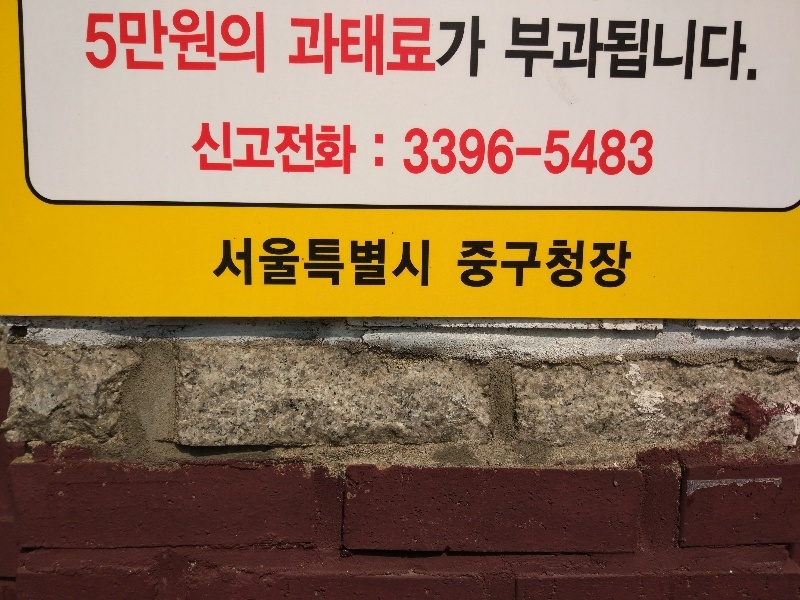text: (289, 12, 304, 79), (305, 12, 320, 79), (321, 12, 336, 79), (337, 12, 352, 79), (353, 12, 368, 79), (369, 12, 384, 79), (385, 12, 400, 79), (401, 12, 416, 79), (417, 12, 432, 79), (433, 12, 448, 79), (449, 12, 464, 79), (465, 12, 480, 79), (513, 17, 528, 84), (529, 17, 544, 84), (545, 17, 560, 84), (561, 17, 576, 84), (577, 17, 592, 84), (593, 17, 608, 84), (609, 17, 624, 84), (625, 17, 640, 84), (641, 17, 656, 84), (657, 17, 672, 84), (673, 17, 688, 84), (689, 17, 704, 84), (705, 17, 720, 84), (721, 17, 736, 84), (737, 17, 752, 84), (97, 11, 112, 76), (113, 11, 128, 76), (129, 11, 144, 76), (145, 11, 160, 76), (161, 11, 176, 76), (177, 11, 192, 76), (193, 11, 208, 76), (209, 11, 224, 76), (225, 11, 240, 76), (241, 11, 256, 76), (193, 122, 208, 179), (209, 122, 224, 179), (225, 122, 240, 179), (241, 122, 256, 179), (257, 122, 272, 179), (273, 122, 288, 179), (289, 122, 304, 179), (305, 122, 320, 179), (321, 122, 336, 179), (337, 122, 352, 179), (353, 122, 368, 179), (369, 122, 384, 179), (385, 122, 400, 179), (401, 122, 416, 179), (417, 122, 432, 179), (433, 122, 448, 179), (449, 122, 464, 179), (465, 122, 480, 179), (481, 122, 496, 179), (497, 122, 512, 179), (513, 122, 528, 179), (529, 122, 544, 179), (545, 122, 560, 179), (561, 122, 576, 179), (577, 122, 592, 179), (593, 122, 608, 179), (609, 122, 624, 179), (625, 122, 640, 179), (641, 122, 656, 179), (209, 239, 224, 288), (225, 239, 240, 288), (241, 239, 256, 288), (257, 239, 272, 288), (273, 239, 288, 288), (289, 239, 304, 288), (305, 239, 320, 288), (321, 239, 336, 288), (337, 239, 352, 288), (353, 239, 368, 288), (369, 239, 384, 288), (385, 239, 400, 288), (401, 239, 416, 288), (465, 241, 480, 290), (481, 241, 496, 290), (497, 241, 512, 290), (513, 241, 528, 290), (529, 241, 544, 290), (545, 241, 560, 290), (561, 241, 576, 290), (577, 241, 592, 290), (593, 241, 608, 290), (609, 241, 624, 290), (85, 11, 96, 76), (417, 239, 430, 288), (257, 11, 266, 76), (504, 17, 512, 84), (753, 17, 761, 84), (625, 241, 634, 290), (457, 241, 464, 290), (481, 12, 486, 79), (190, 122, 192, 179)
